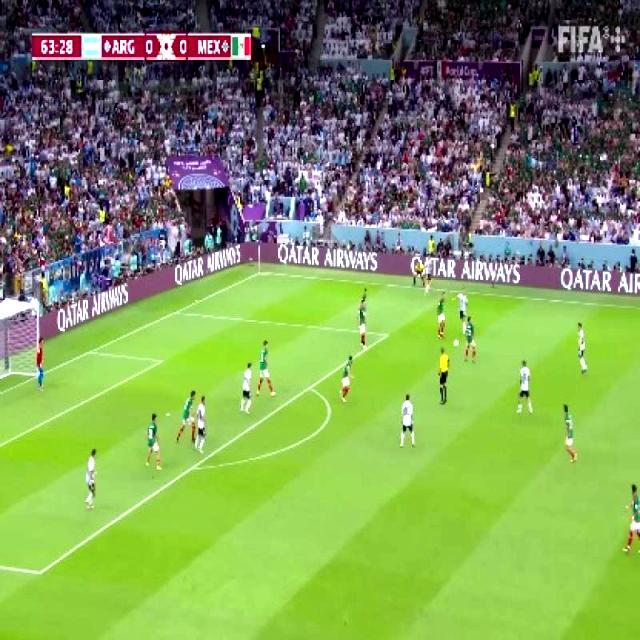bigarea_bottom_inner: (26, 560, 50, 586)
bigarea_top_inner: (378, 327, 392, 344)
bigarea_top_outter: (172, 306, 180, 316)
bottom_arc_area_intersection: (182, 456, 202, 479)
corner: (255, 269, 265, 276)
smallarea_top_inner: (155, 356, 163, 366)
smallarea_top_outter: (84, 346, 94, 356)
top_arc_area_intersection: (300, 379, 318, 396)
